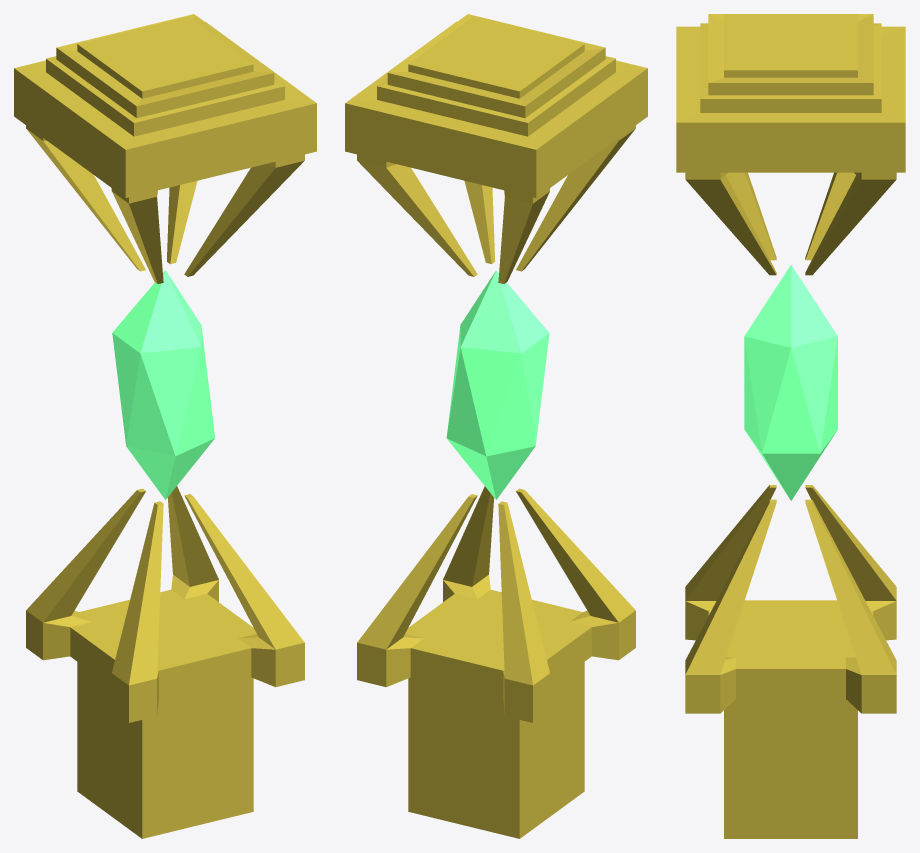
Rendered from endportal.fbx.
The picture shows the model from 3 angles, left to right: view 1: azimuth 30°, elevation 25°; view 2: azimuth 150°, elevation 25°; view 3: azimuth 270°, elevation 25°; orthographic projection. The views are drawn at different scales.
Parts seen in each view (by area): view 1: Cube, Cube.001, Icosphere; view 2: Cube, Cube.001, Icosphere; view 3: Cube, Cube.001, Icosphere.
Boxes of the visible parts, x1,y1,x2,y2 form: Cube: [26, 486, 304, 838]; Cube.001: [14, 14, 316, 283]; Icosphere: [112, 270, 215, 499]; Cube: [357, 486, 635, 838]; Cube.001: [345, 14, 647, 283]; Icosphere: [446, 270, 549, 499]; Cube: [685, 485, 896, 838]; Cube.001: [676, 14, 905, 275]; Icosphere: [744, 264, 837, 500].
Size of the model in its own units: 166 by 619 by 168.
